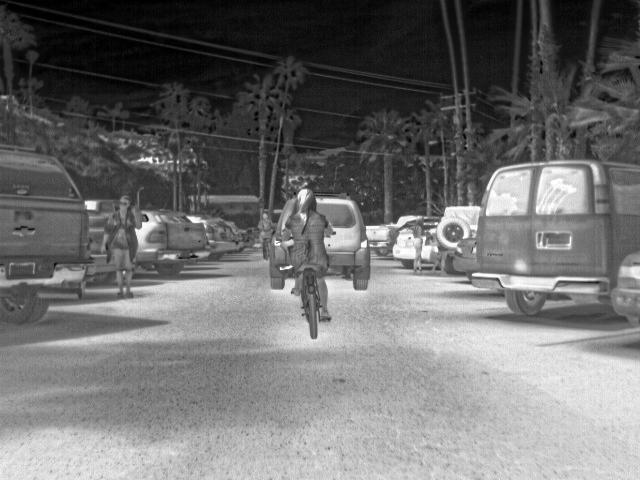car: (468, 159, 638, 316), (0, 142, 87, 326), (309, 191, 370, 291), (137, 220, 204, 276), (435, 204, 480, 275), (267, 197, 297, 290), (187, 213, 240, 262), (84, 216, 114, 288), (610, 252, 639, 326), (451, 235, 478, 276), (392, 221, 414, 270), (364, 224, 392, 257), (239, 230, 252, 248)
person: (277, 187, 332, 319), (104, 192, 141, 299), (412, 218, 427, 276), (254, 208, 275, 246)
